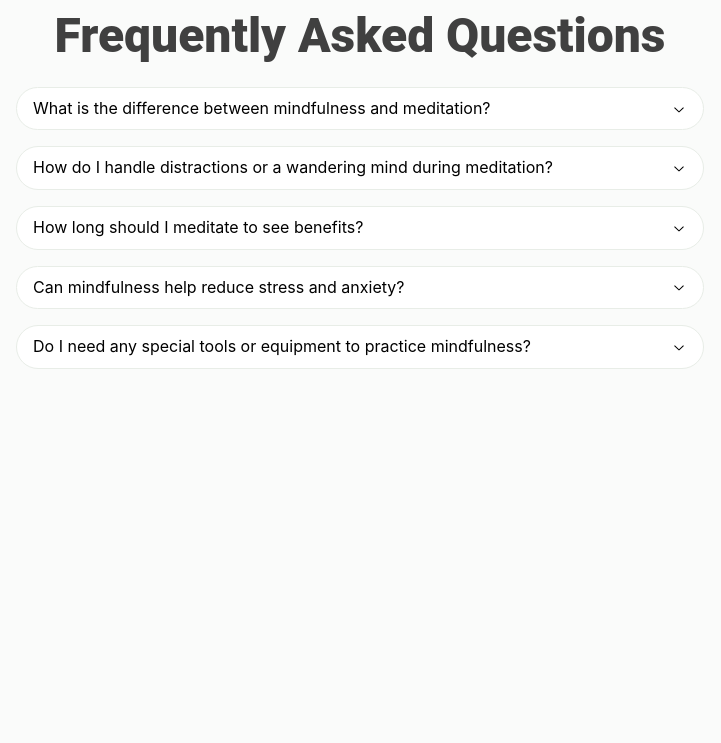
Test case: LandingFAQ › Accordion Interactions › shows different content for different accordion items
# Click on distractions question
Click the button "How do I handle distractions or a wandering mind during meditation?".
click(360, 168)  # box [17,147,703,189]
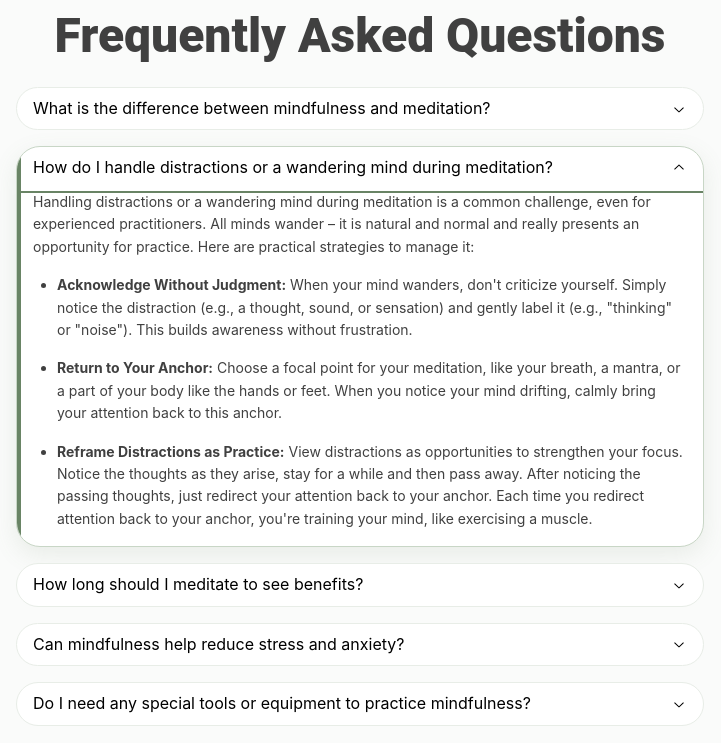
expect the text "Acknowledge Without Judgment:" is shown: met, box [57,276,286,293]
expect the text "Return to Your Anchor:" is shown: met, box [57,359,213,376]
